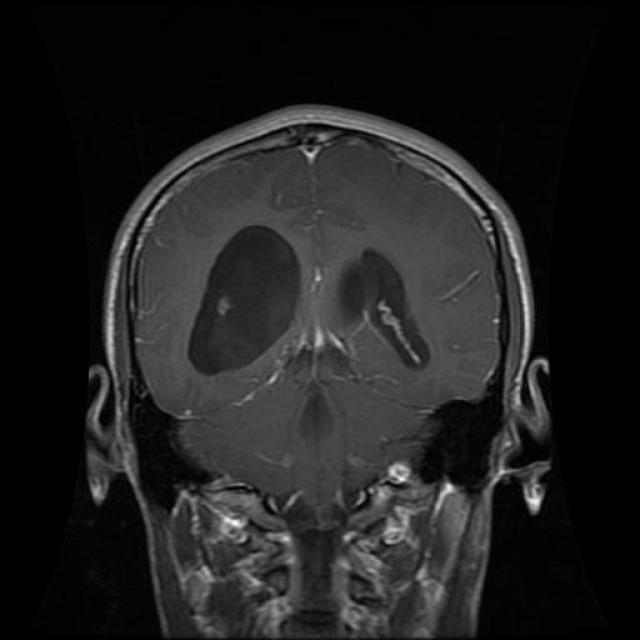glioma: (181, 222, 434, 374)
